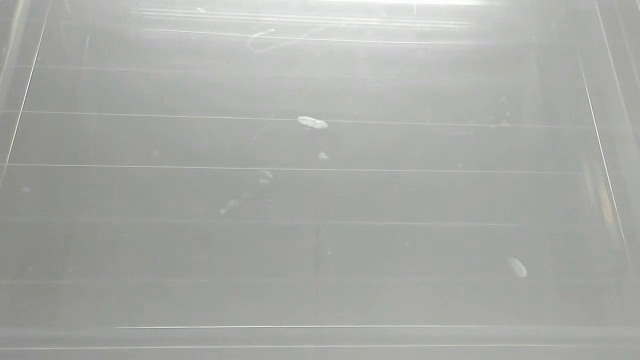alpha: (294, 110, 330, 134), (504, 253, 533, 282)
